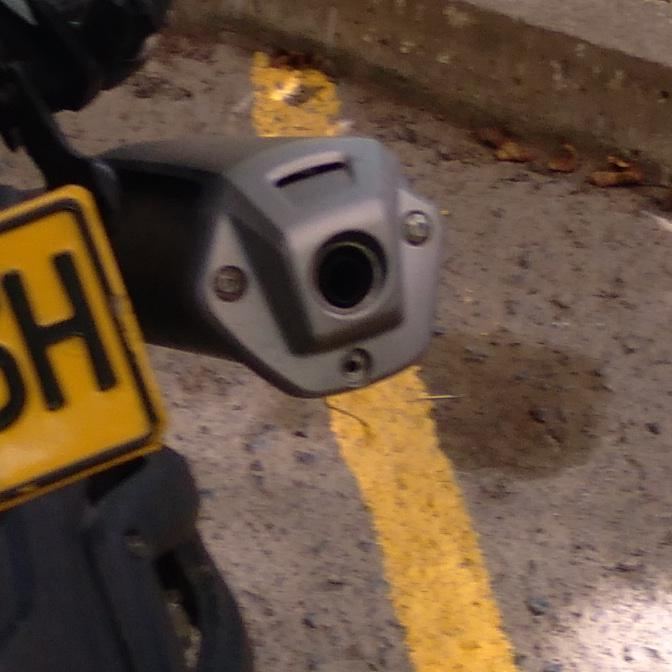plates: (0, 182, 174, 517)
